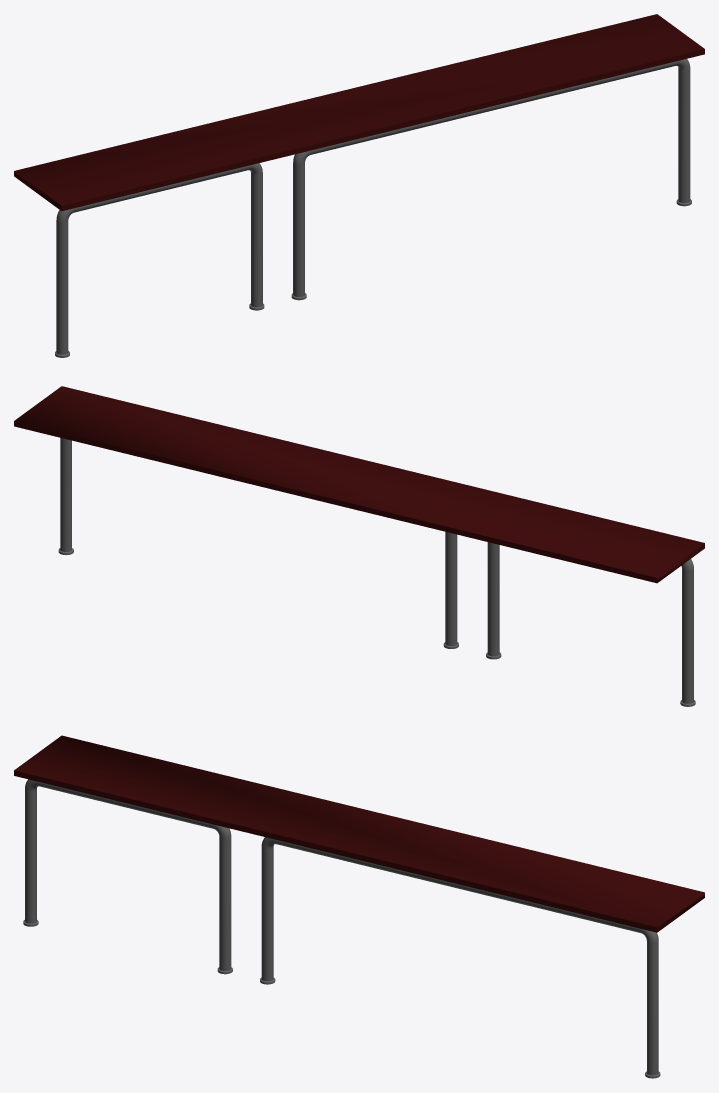
The model's file is desk-side.dae.
3 renders of one model, top to bottom at view 1: azimuth 30°, elevation 25°; view 2: azimuth 150°, elevation 25°; view 3: azimuth 330°, elevation 25°, orthographic.
Visible parts, largest first — view 1: deskastolu, r_m8; view 2: deskastolu, r_m8; view 3: deskastolu, r_m8.
Boxes of the visible parts, <box> form: deskastolu: <box>14,14,704,210</box>; r_m8: <box>55,59,691,357</box>; deskastolu: <box>14,386,704,583</box>; r_m8: <box>58,438,695,706</box>; deskastolu: <box>14,735,704,932</box>; r_m8: <box>23,779,660,1078</box>.
Bounding box in the file's own units: 311 × 72.49 × 40.
